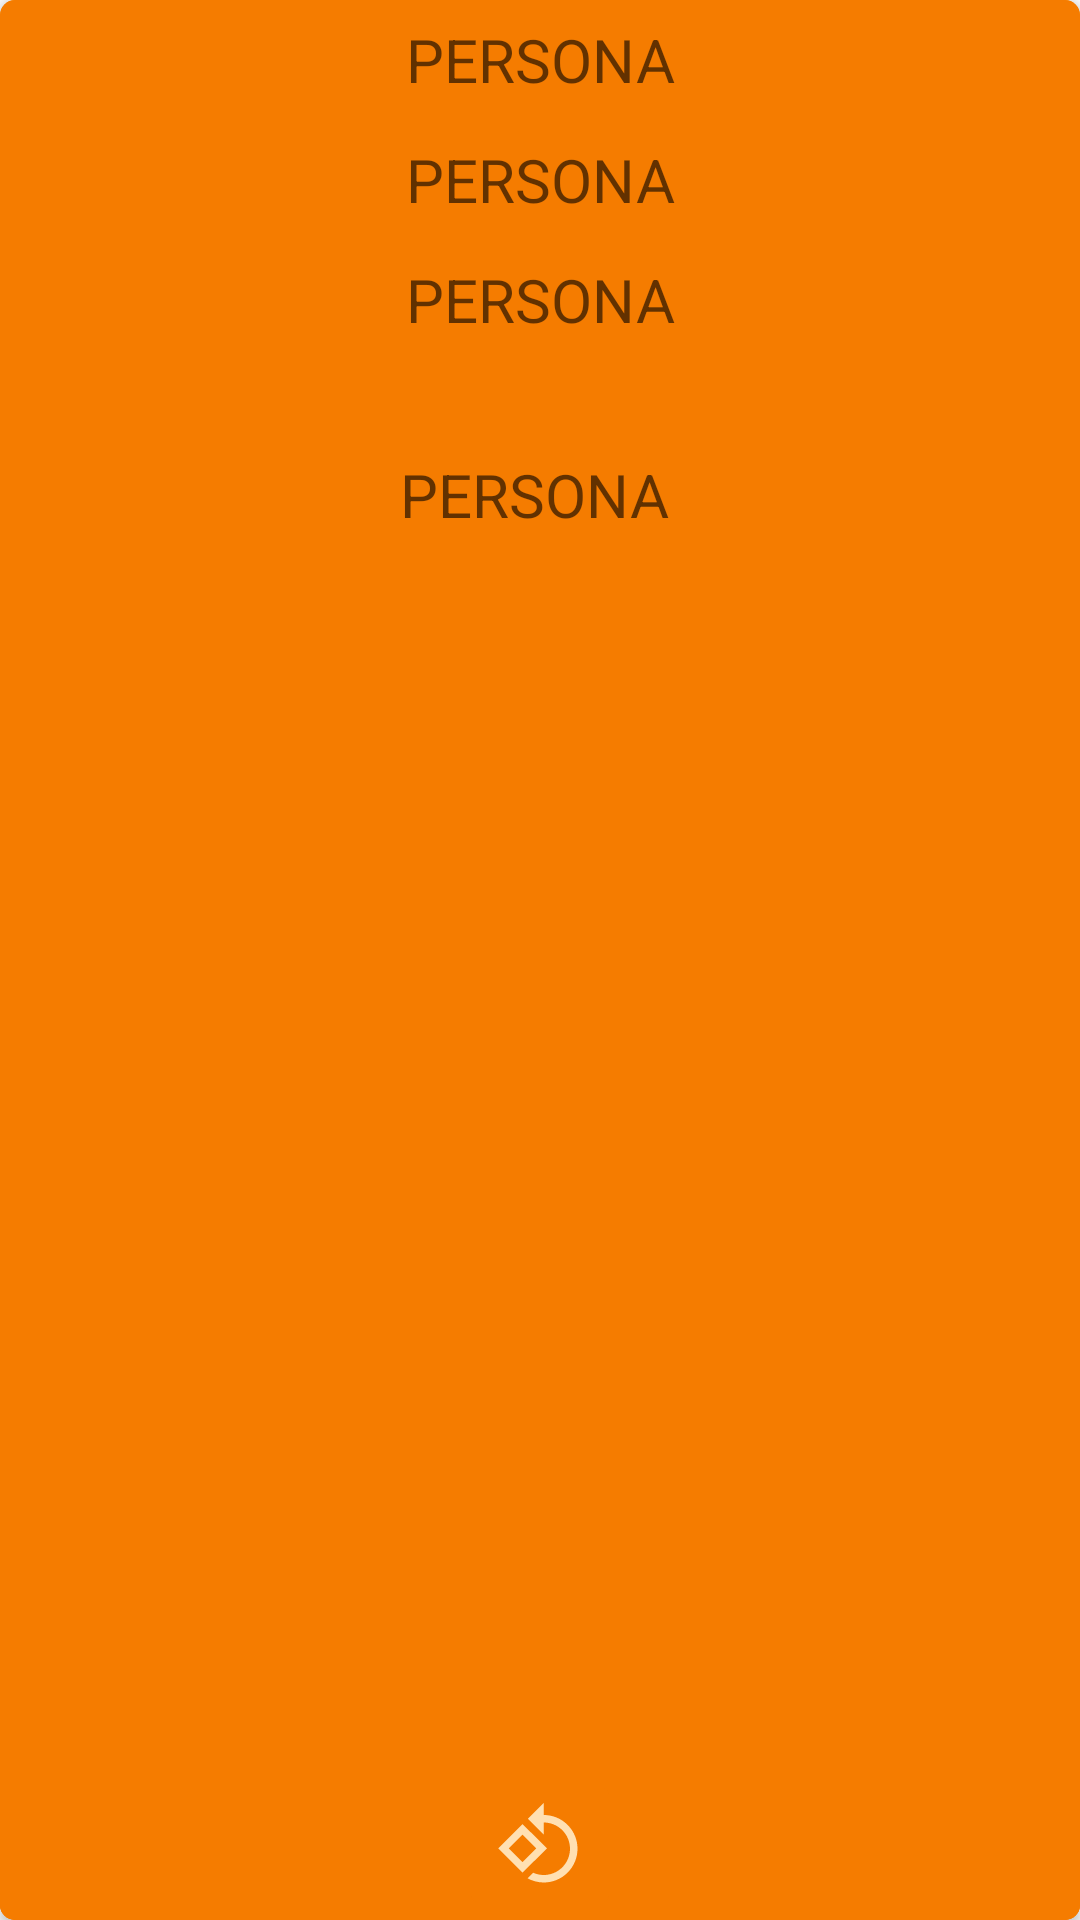

Point at icon controls on the screen. Image size 1080*1920, points as point (x, y).
rotar imagendp: point (538, 1843)
